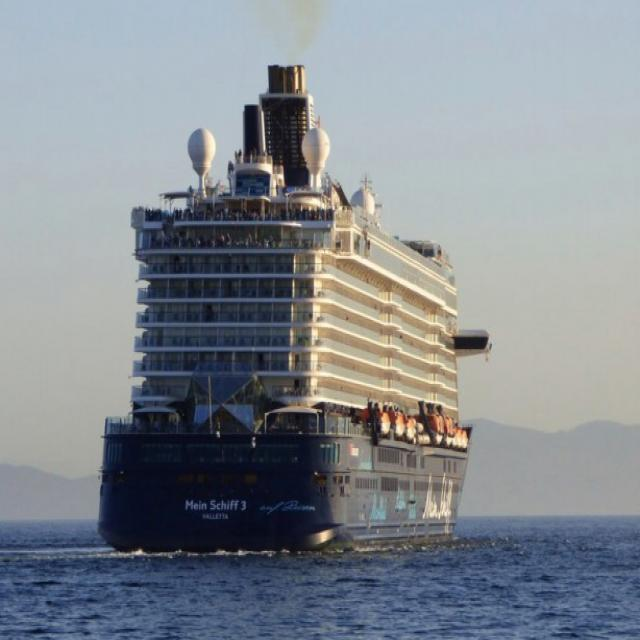cruises: (95, 58, 495, 569)
